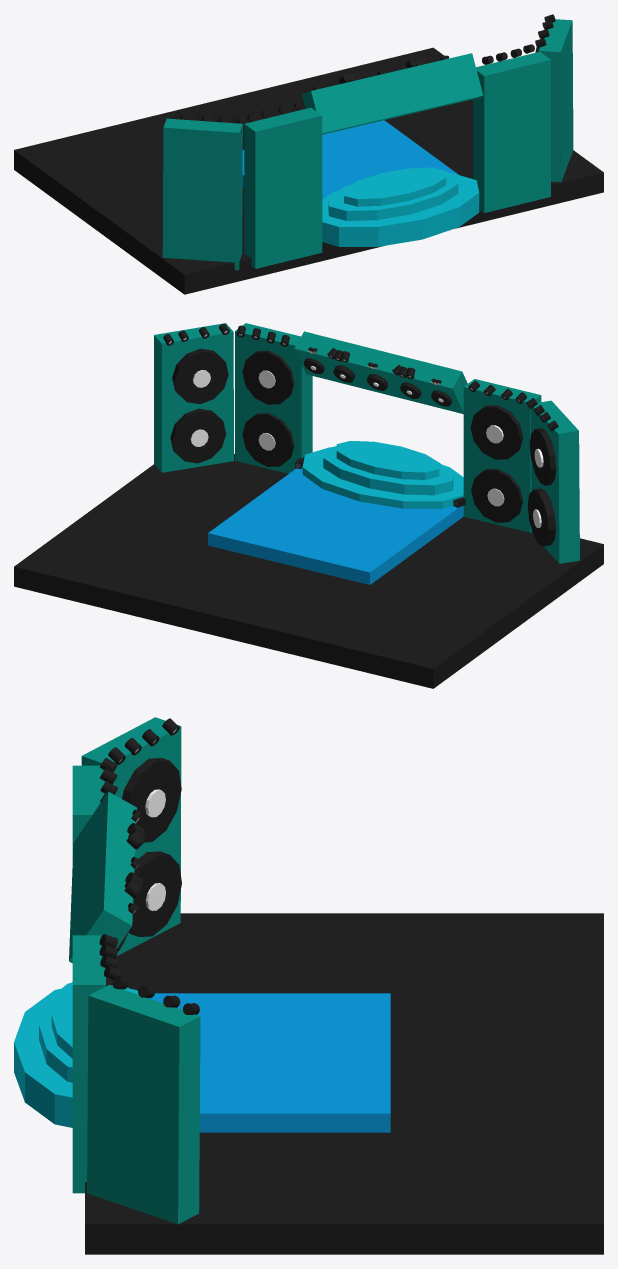
File: lowpolystage.gltf
The picture shows the model from 3 angles, top to bottom: view 1: azimuth 30°, elevation 25°; view 2: azimuth 150°, elevation 25°; view 3: azimuth 270°, elevation 25°; orthographic projection. The views are drawn at different scales.
Visible parts, largest first — view 1: group771530412, group885771481, group1857431487, group657821834, group959325566, group2057343033, group2093559352, group811626294, group1487801020, group1065885900; view 2: group771530412, group2057343033, group811626294, group657821834, group959325566, group885771481, group1857431487, group2093559352, group1487801020, group1065885900, group1426257500, group1465698848 (+6 smaller); view 3: group771530412, group2057343033, group811626294, group959325566, group657821834, group1857431487, group2093559352, group1849001110, group1205982878, group885771481, group1065885900, group1487801020.
Part boxes in pixels (<box>): group771530412: <box>14,47,603,294</box>; group885771481: <box>244,107,322,268</box>; group1857431487: <box>162,118,242,270</box>; group657821834: <box>473,51,550,212</box>; group959325566: <box>302,53,483,134</box>; group2057343033: <box>242,120,458,199</box>; group2093559352: <box>322,173,479,246</box>; group811626294: <box>538,19,573,182</box>; group1487801020: <box>344,167,446,206</box>; group1065885900: <box>328,172,458,220</box>; group771530412: <box>14,454,603,688</box>; group2057343033: <box>208,467,463,584</box>; group811626294: <box>154,323,233,472</box>; group657821834: <box>235,323,312,473</box>; group959325566: <box>294,331,467,413</box>; group885771481: <box>463,379,541,532</box>; group1857431487: <box>531,400,579,563</box>; group2093559352: <box>302,447,463,508</box>; group1487801020: <box>336,441,439,479</box>; group1065885900: <box>323,446,453,495</box>; group1426257500: <box>172,348,228,404</box>; group1465698848: <box>170,408,226,463</box>; group771530412: <box>85,913,603,1254</box>; group2057343033: <box>148,993,390,1132</box>; group811626294: <box>87,985,200,1224</box>; group959325566: <box>69,791,136,963</box>; group657821834: <box>72,935,105,1193</box>; group1857431487: <box>81,717,181,955</box>; group2093559352: <box>14,989,138,1127</box>; group1849001110: <box>122,758,181,842</box>; group1205982878: <box>128,851,181,936</box>; group885771481: <box>72,765,105,859</box>; group1065885900: <box>39,983,134,1082</box>; group1487801020: <box>51,982,112,1058</box>.
Size of the model in its own units: 1.76 by 0.6637 by 1.41.
